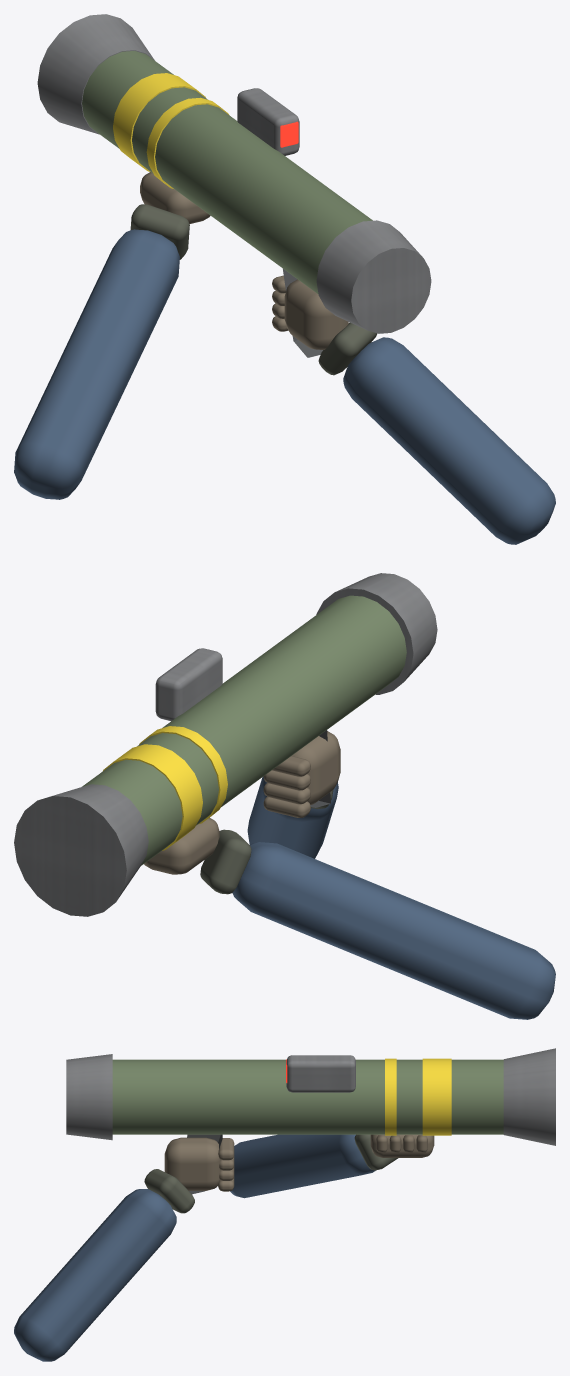
Rendered from launcher.gltf.
3 renders of one model, top to bottom at view 1: azimuth 30°, elevation 25°; view 2: azimuth 150°, elevation 25°; view 3: azimuth 270°, elevation 25°, orthographic. The views are drawn at different scales.
Parts seen in each view (by area): view 1: launcher; view 2: launcher; view 3: launcher.
Boxes of the visible parts, x1,y1,x2,y2 form: launcher: (14,14,555,544); launcher: (14,573,555,1019); launcher: (14,1048,555,1361).
Bounding box in the file's own units: 0.6573 × 0.5127 × 0.9351.
8 materials, 1 textured.
